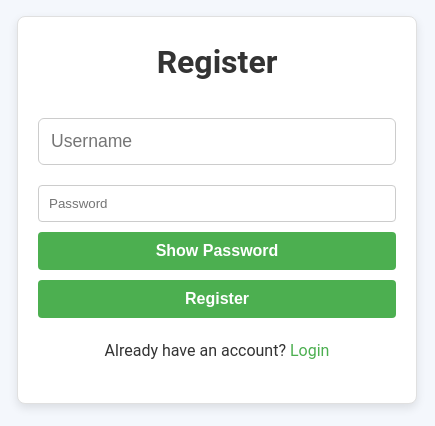
LoginRegisterPage › switches back to Register form from Login
This screenshot has width=435, height=426.
Click the link "Login" at (310, 351), box [290,341,330,360]
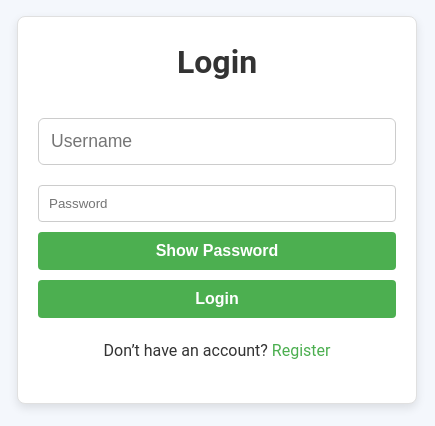
Click the link "Register" at (302, 351), box [272,341,331,360]
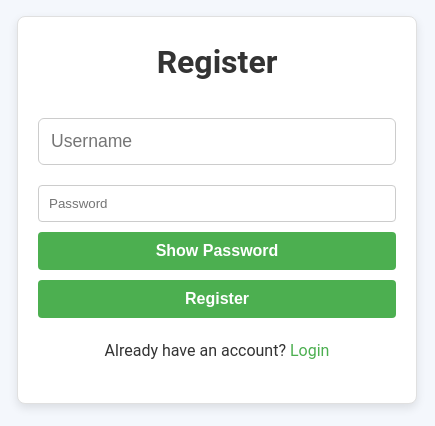
Expected: the heading "Register" is shown, [157,43,277,81]
